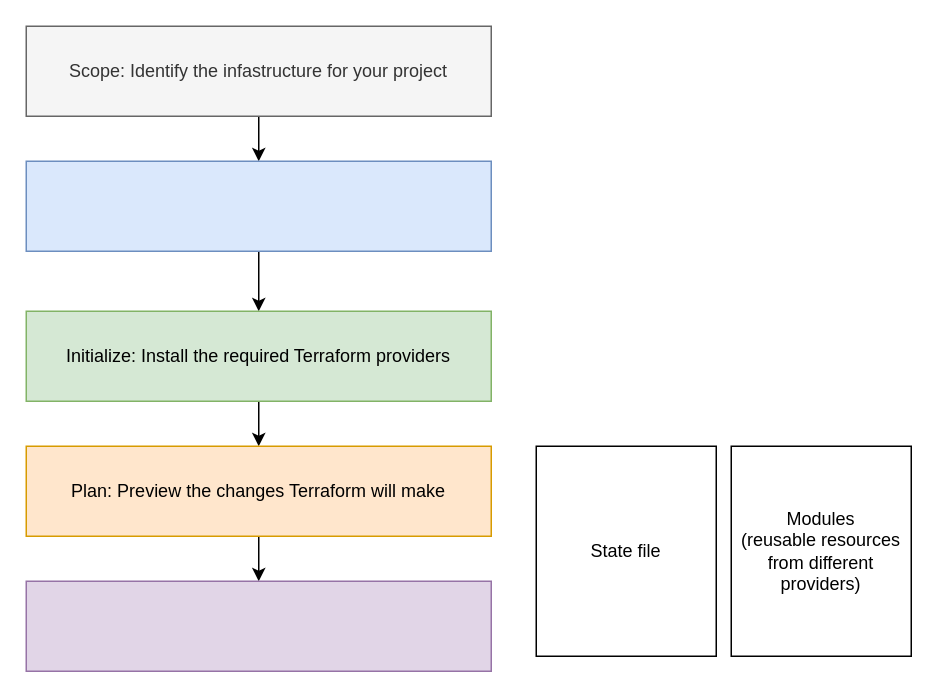
This 938x698 diagram has some shape labels left out. The shapes that lost their labels are listed below. From the top down, each one's centre as x and y in pixels, then its label:
At [258,205]: "Author: Write configuration to define your infrastructure".
At [258,625]: "Apply: Make the changes to your infrastructure".
